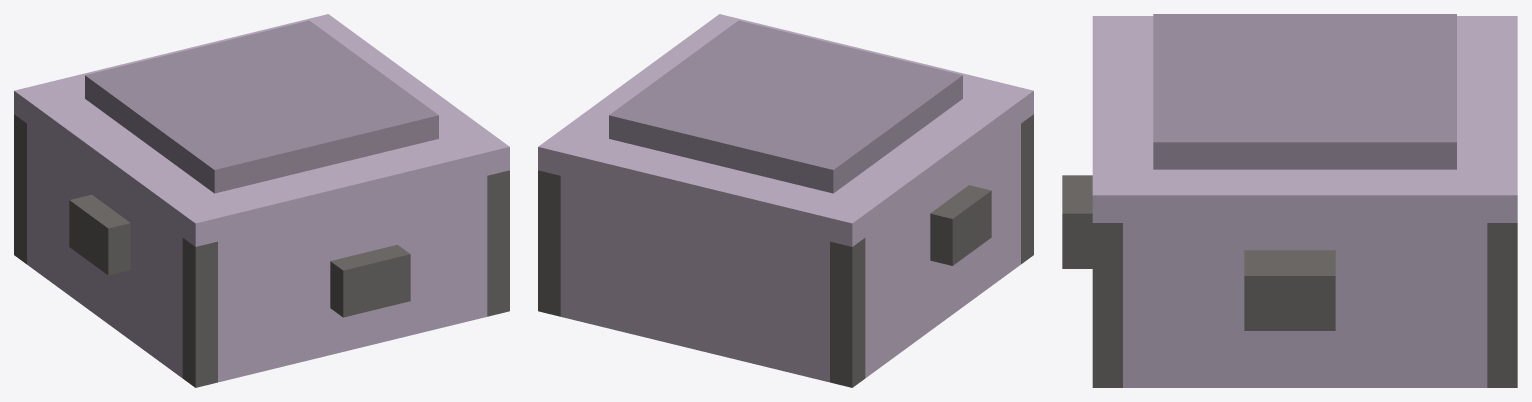
The model's file is cesto_flores_moler_01.glb.
3 renders of one model, left to right at view 1: azimuth 30°, elevation 25°; view 2: azimuth 150°, elevation 25°; view 3: azimuth 270°, elevation 25°, orthographic. The views are drawn at different scales.
Visible parts, largest first — view 1: cesto_flores_moler; view 2: cesto_flores_moler; view 3: cesto_flores_moler.
Boxes of the visible parts, <box> form: cesto_flores_moler: <box>14,14,509,387</box>; cesto_flores_moler: <box>538,14,1033,387</box>; cesto_flores_moler: <box>1062,14,1517,387</box>.
Size of the model in its own units: 1.21 by 0.5714 by 1.07.
